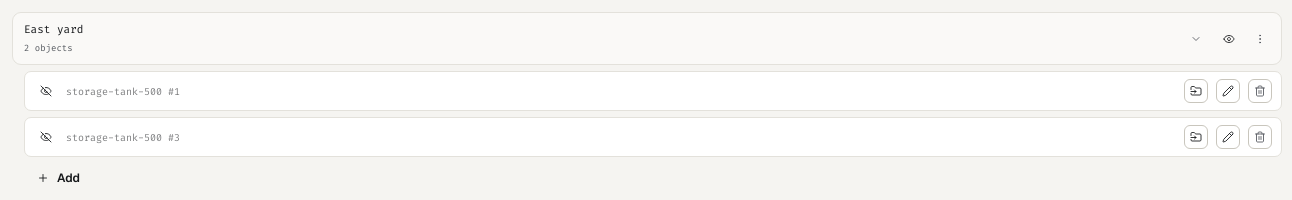
Test: UserGroupItem › keeps a reopened rename field open when the earlier rename lands late
The image size is (1292, 200).
Click the button named "Actions for group East yard" at coordinates (1260, 38), box [1245, 26, 1275, 52]
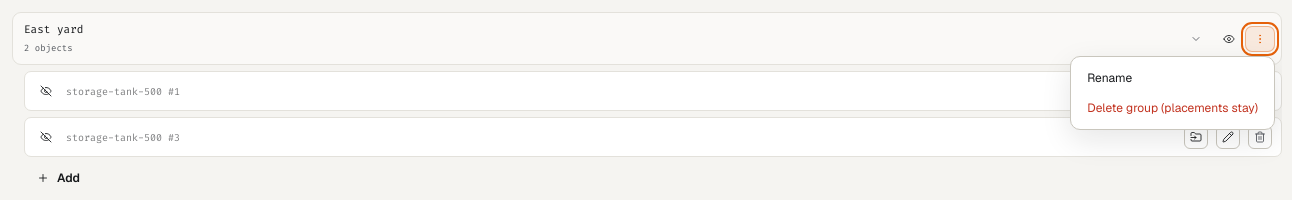
Click the menu item "Rename" at coordinates (1173, 78), box [1077, 62, 1268, 92]
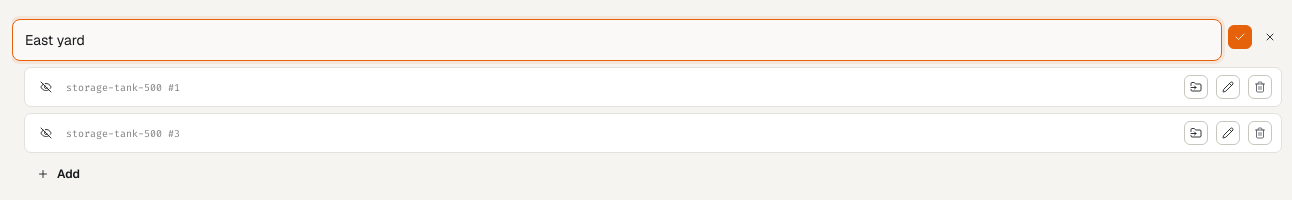
Type "2" into the field named "Rename group East yard" at coordinates (617, 40), box [12, 19, 1222, 61]
Then press Enter
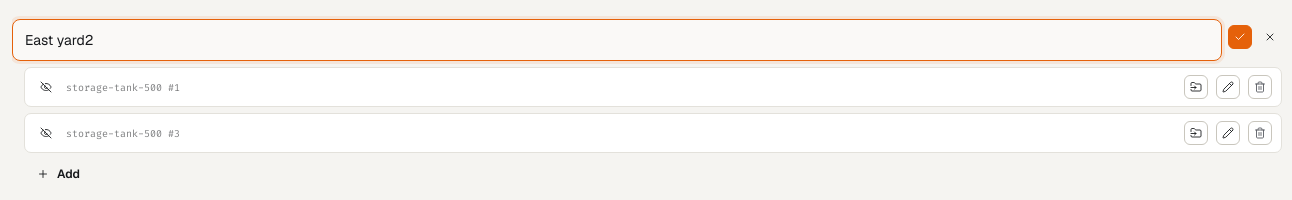
Click the button named "Cancel" at coordinates (1270, 36), box [1258, 24, 1282, 48]
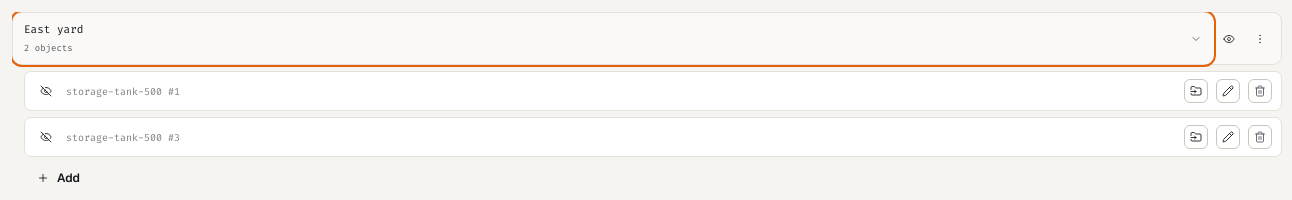
Click the button named "Actions for group East yard" at coordinates (1260, 38), box [1245, 26, 1275, 52]
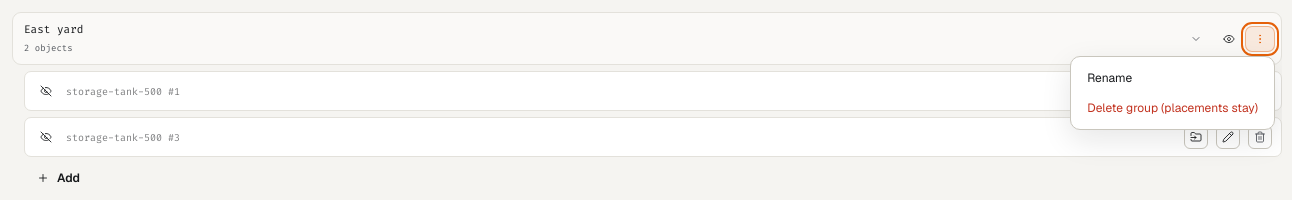
Click the menu item "Rename" at coordinates (1173, 78), box [1077, 62, 1268, 92]
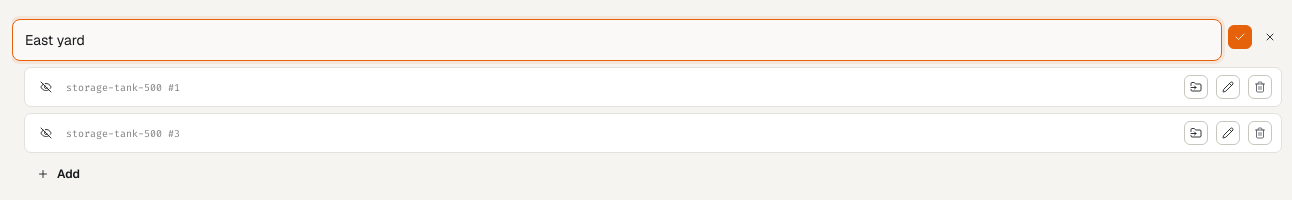
Check: the field named "Rename group East yard" is shown, box [12, 19, 1222, 61]
